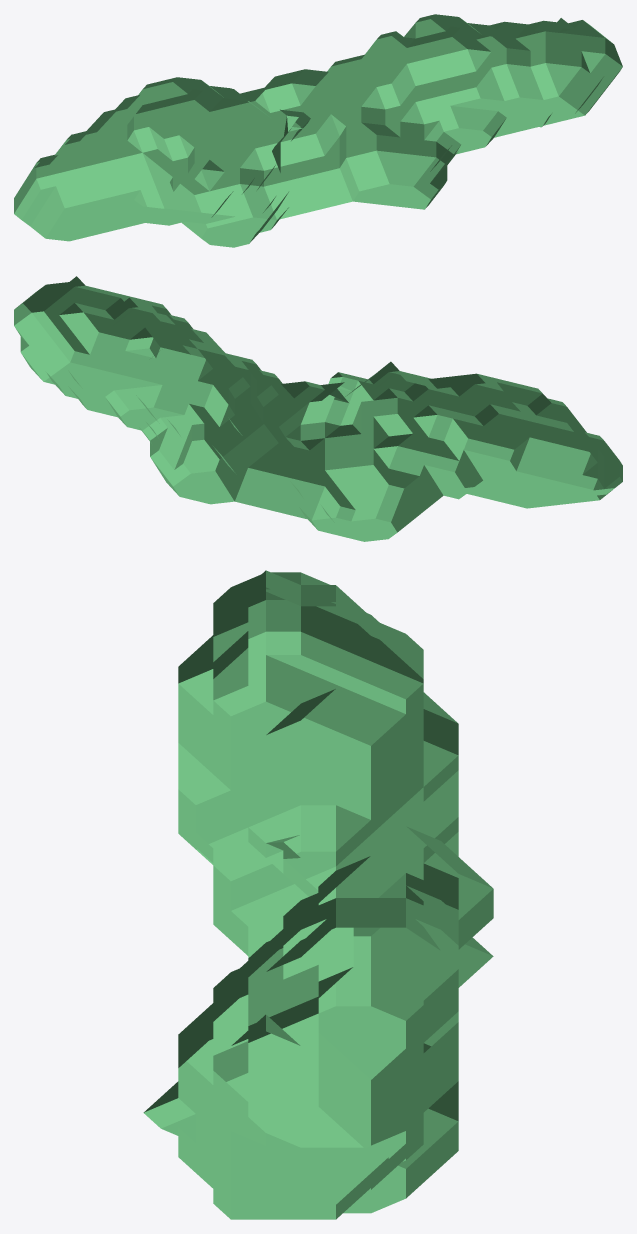
The model's file is region_0068_IAF__inner_arcuate_fibers_.glb.
3 views of the same model, one above another, from view 1: azimuth 30°, elevation 25°; view 2: azimuth 150°, elevation 25°; view 3: azimuth 270°, elevation 25° (orthographic). The views are drawn at different scales.
Parts seen in each view (by area): view 1: world; view 2: world; view 3: world.
Part boxes in pixels (x1=…): world: x1=14, y1=14, x2=622, y2=247; world: x1=14, y1=276, x2=622, y2=541; world: x1=143, y1=570, x2=493, y2=1219.
Size of the model in its own units: 0.312 by 0.08 by 0.08.
